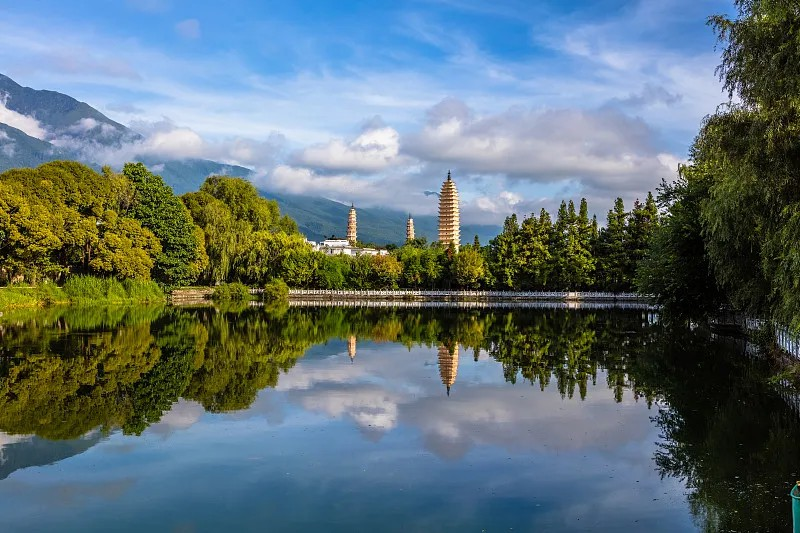ThreePagoda: (436, 170, 462, 248)
